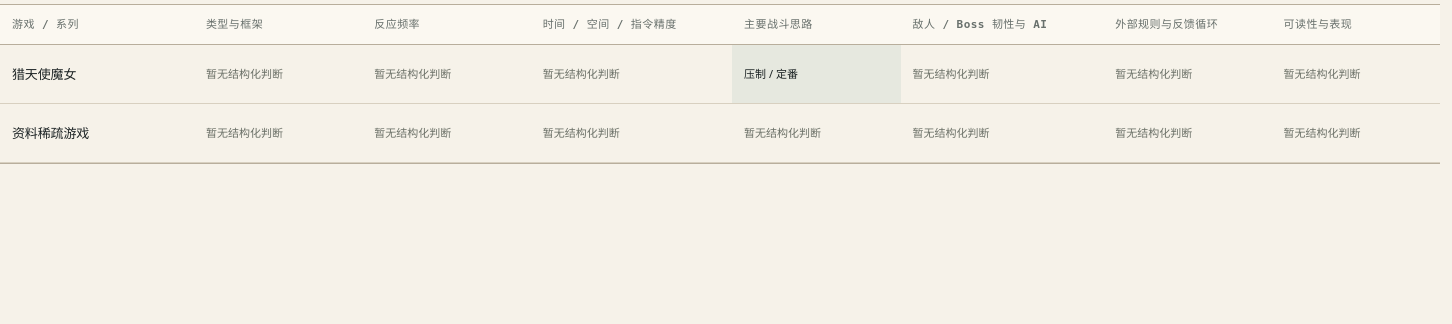
Test: ComparisonMatrix › states evidence absence instead of inventing a judgment
Step 1. Click the button with aria-label "资料稀疏游戏：类型与框架" → (278, 133), box top-left (194, 104), bottom-right (362, 162)
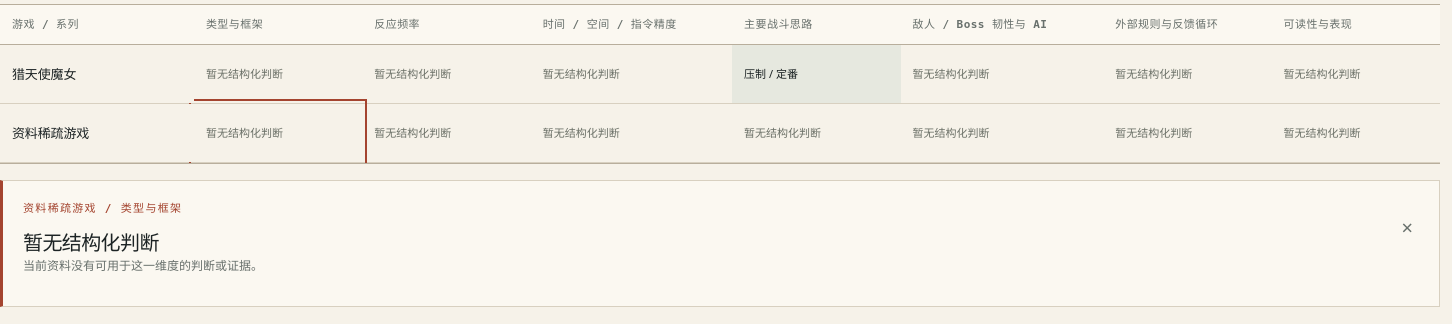
Expected: the 1st button "暂无结构化判断" is shown, top-left (194, 45), bottom-right (362, 103)
Expected: the text "当前资料没有可用于这一维度的判断或证据。" is shown, top-left (23, 256), bottom-right (263, 274)
